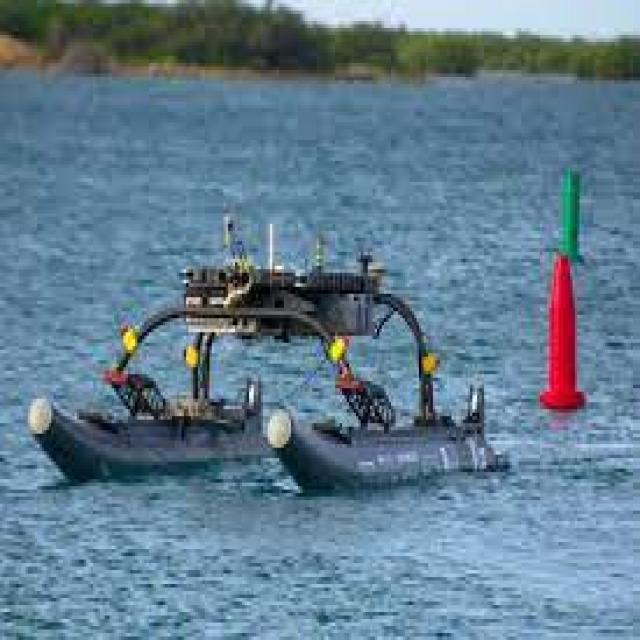Green_Buoy: (549, 165, 602, 251), (558, 173, 592, 246)
Red_Buoy: (537, 254, 587, 416), (546, 262, 577, 404)
Wam_V: (20, 192, 506, 536)
White_Buoy: (38, 209, 486, 499)
